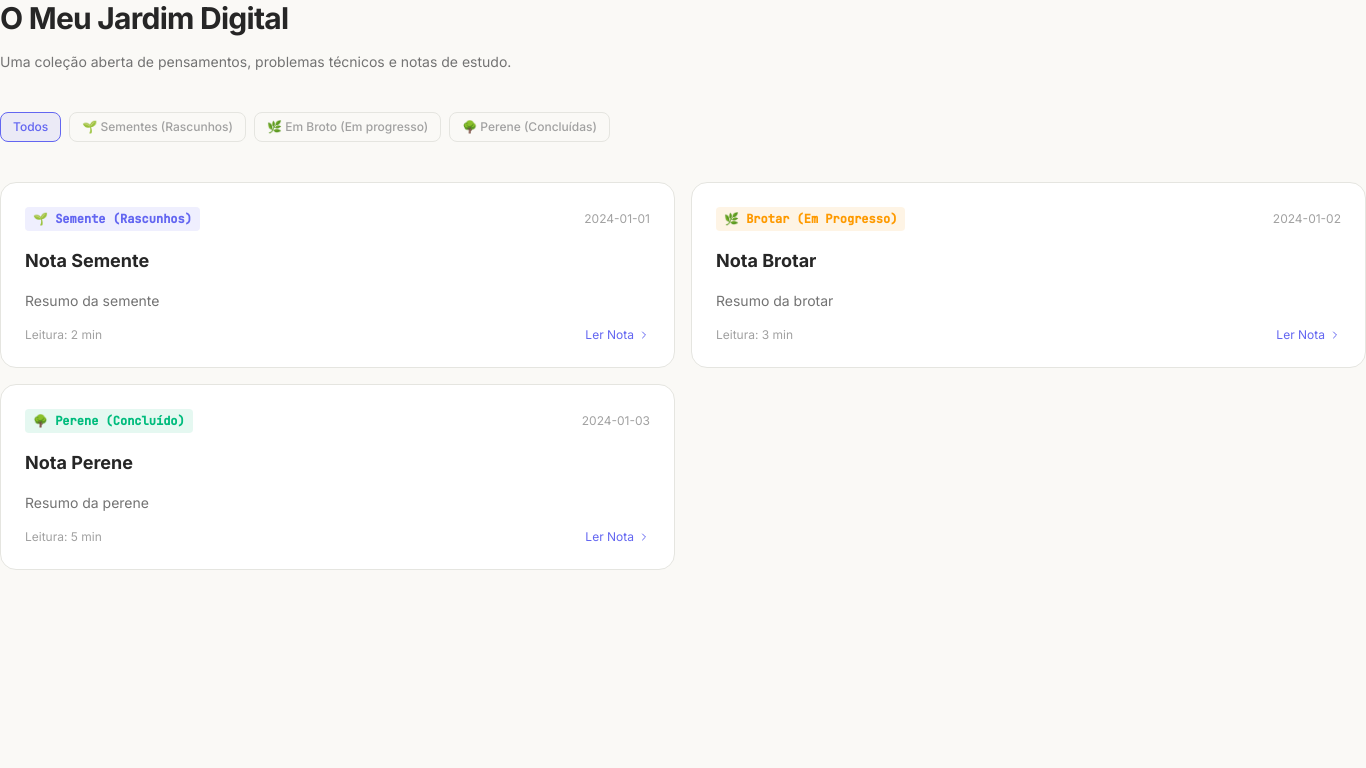
GardenSection › renderiza Markdown com suporte a listas, headings e bold
Click the heading "Nota Perene": (79, 462) left=25, top=452, right=133, bottom=473
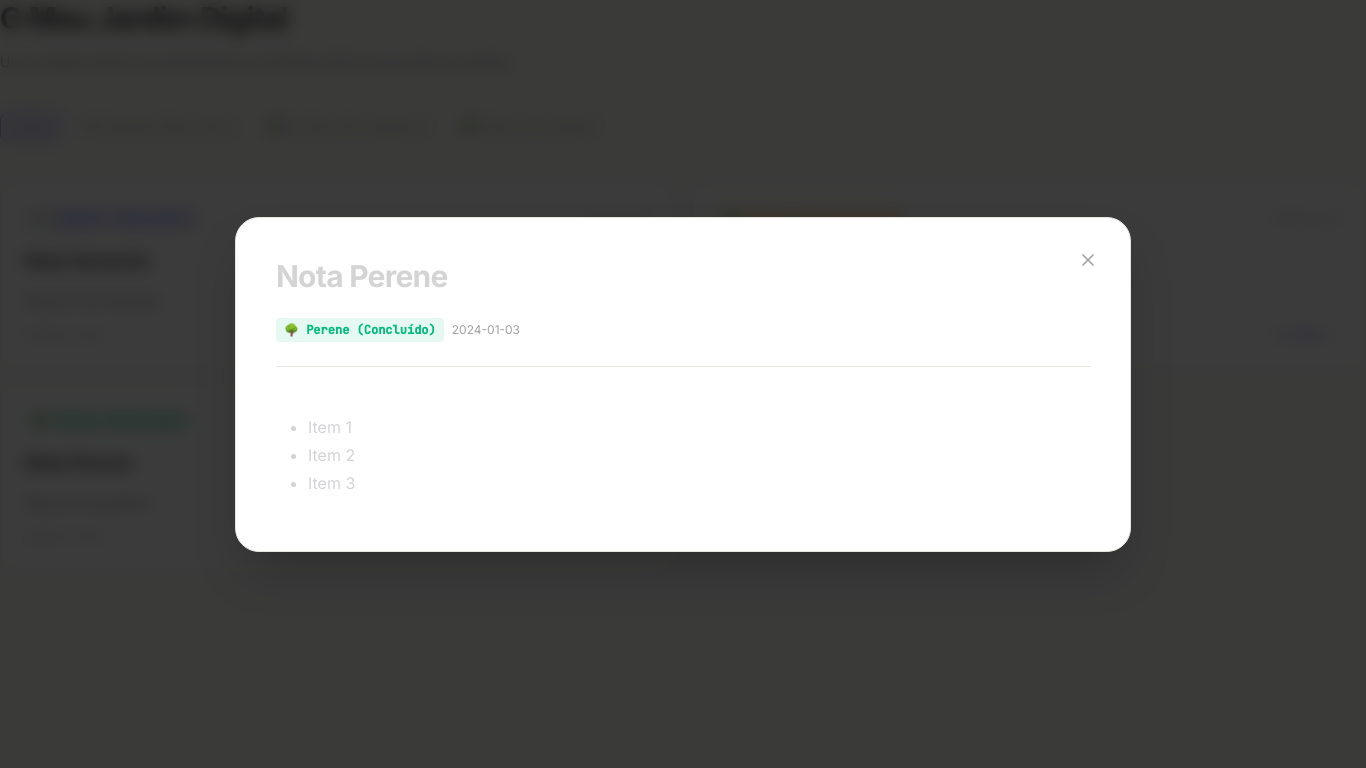
Expected: the list item "Item 1" is shown, left=308, top=416, right=352, bottom=436
